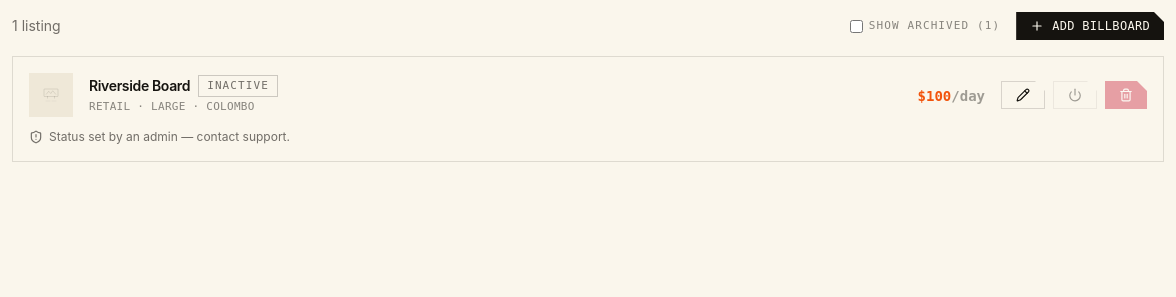
Test: MyBillboardsPanel › disables status changes and delete on admin-locked listings
Expected: the button named "activate riverside board" is disabled, [1053, 81, 1097, 109]
Expected: the button named "archive or delete riverside board" is disabled, [1105, 81, 1147, 109]
Click the checkbox labelled "Show archived (1)".
click(856, 26)  # box [850, 20, 863, 32]
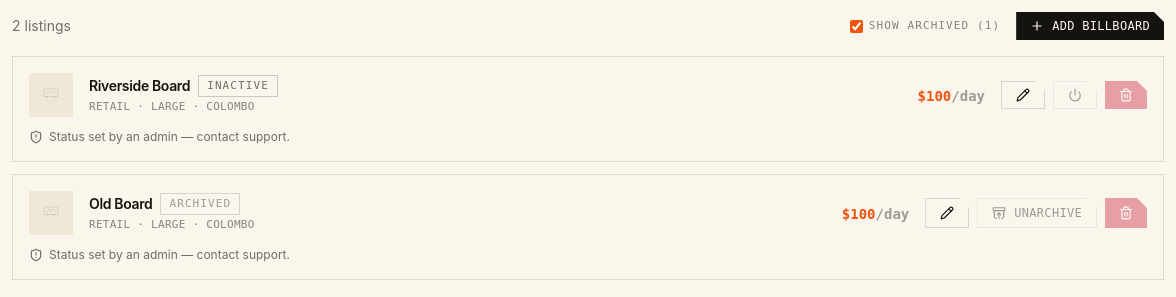
Now the button "Unarchive" is disabled, box [977, 198, 1097, 228]
Now the button named "delete old board" is disabled, box [1105, 198, 1147, 228]
